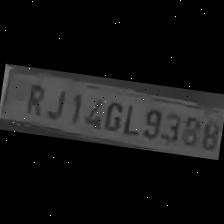1: (64, 87, 86, 124)
3: (158, 107, 182, 144)
4: (80, 93, 106, 130)
8: (196, 115, 222, 152), (178, 112, 202, 148)
9: (138, 104, 164, 141)
G: (100, 96, 125, 134)
J: (43, 84, 69, 120)
L: (119, 100, 140, 136)
R: (18, 78, 48, 118)
